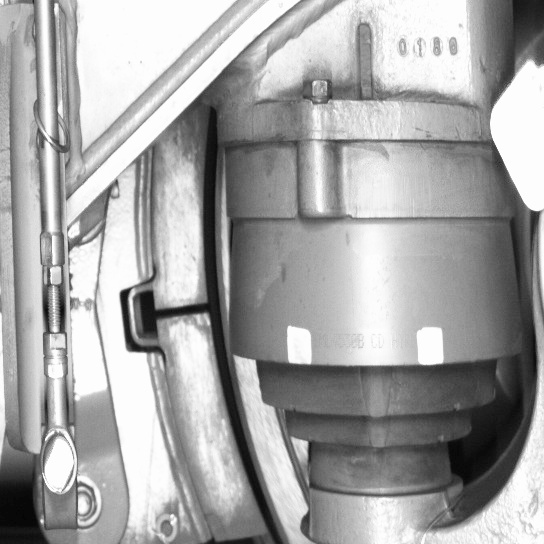KnifeSwitch: (152, 142, 288, 541)
